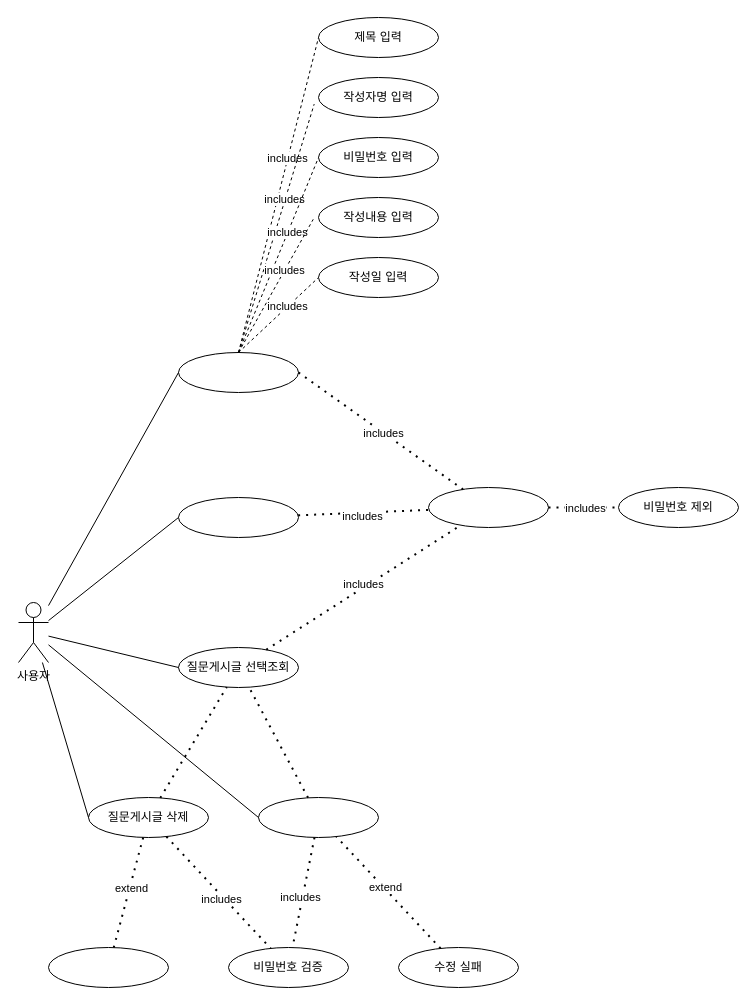
The diagram is 756 pixels wide and 1005 high, and some of its shapes have lost their labels. The shapes that lost their labels are listed below. From the top down, each one's box as (x1, y1, x2, y2) in pixels, then its label:
(178, 352, 298, 392): 질문게시글 작성
(178, 496, 298, 538): 질문게시글 전체조회
(428, 486, 548, 528): 저장된 게시글 반환
(258, 796, 378, 838): 질문게시글 수정
(48, 946, 168, 988): 삭제 실패
